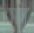Give way: (3, 3, 33, 30)
